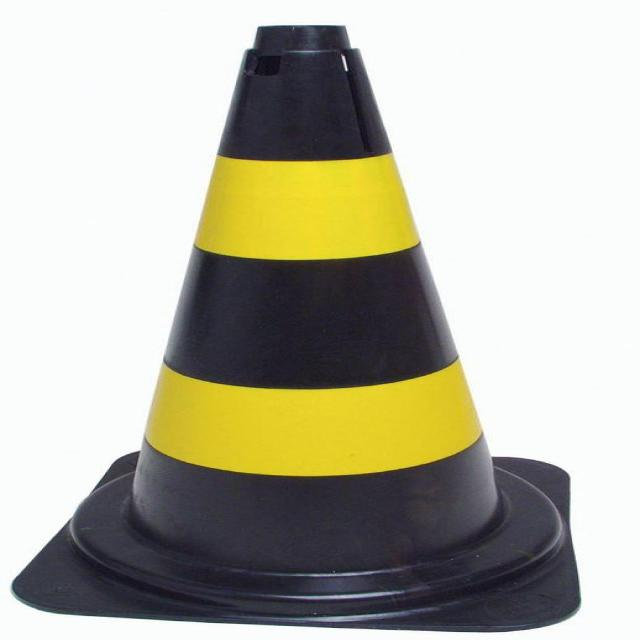cone: (117, 26, 495, 604)
